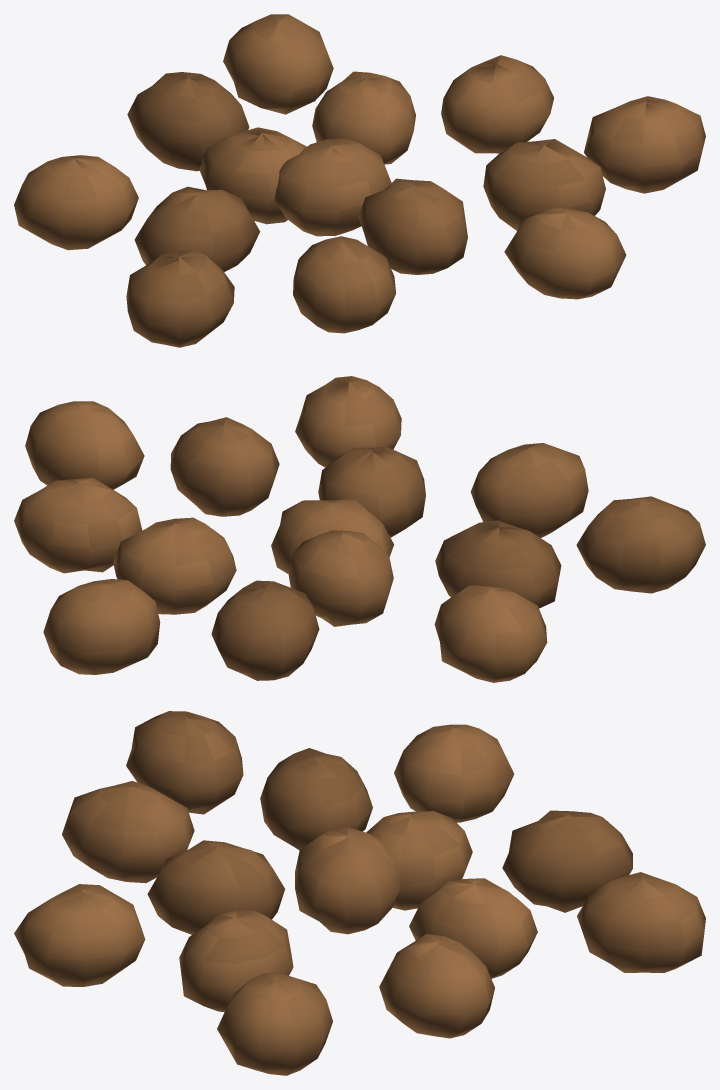
Rendered from Hazelnut.glb.
3 views of the same model, one above another, from view 1: azimuth 30°, elevation 25°; view 2: azimuth 150°, elevation 25°; view 3: azimuth 270°, elevation 25° (orthographic). The views are drawn at different scales.
Parts seen in each view (by area): view 1: Hazelnut; view 2: Hazelnut; view 3: Hazelnut.
Boxes of the visible parts, left/top/right/bottom form: Hazelnut: left=14, top=14, right=705, bottom=347; Hazelnut: left=14, top=376, right=705, bottom=682; Hazelnut: left=14, top=711, right=705, bottom=1075.
Size of what is drawn, in the model's own units: 0.0888 by 0.0121 by 0.082.
